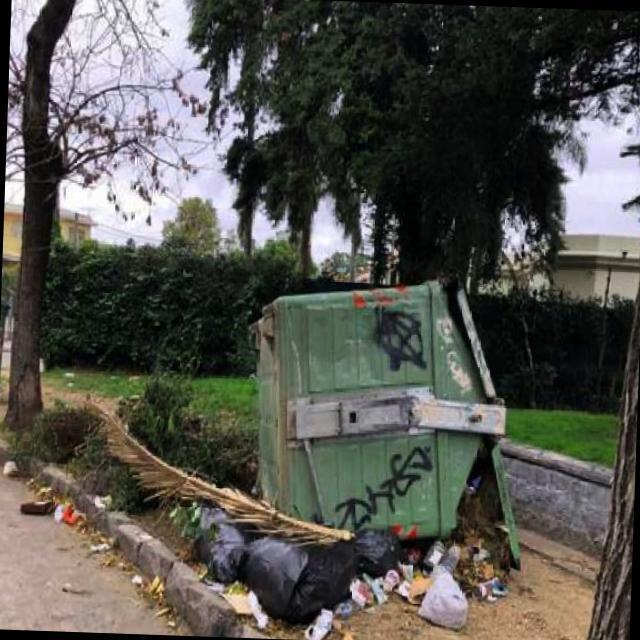garbage: (170, 494, 466, 632), (0, 448, 108, 544), (465, 536, 509, 606)
